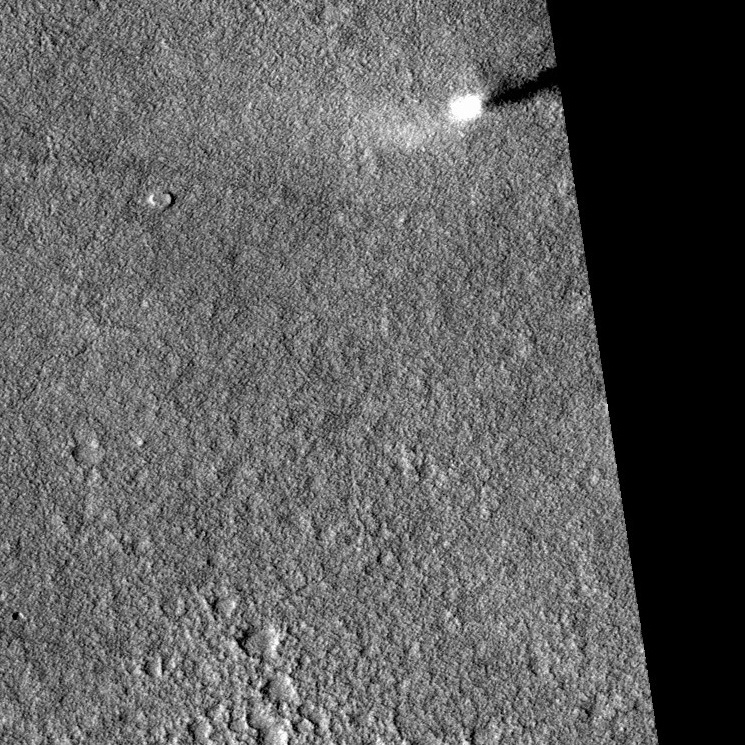dust_devil: (441, 63, 558, 130)
